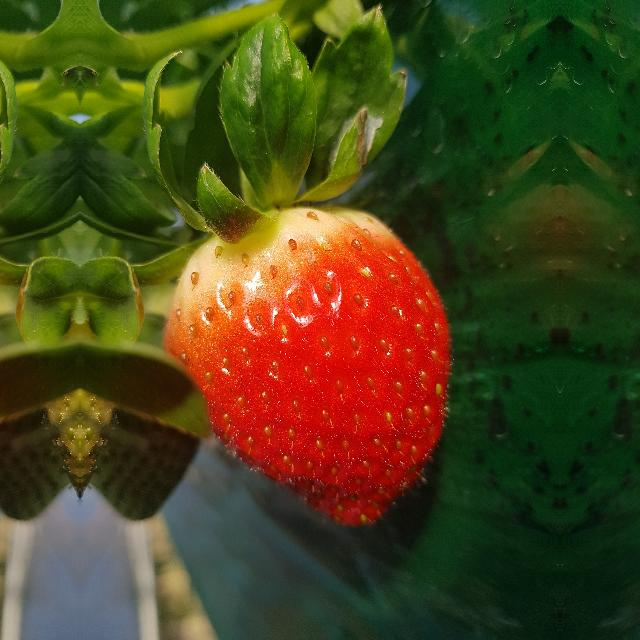Health_100: (162, 202, 454, 528)
